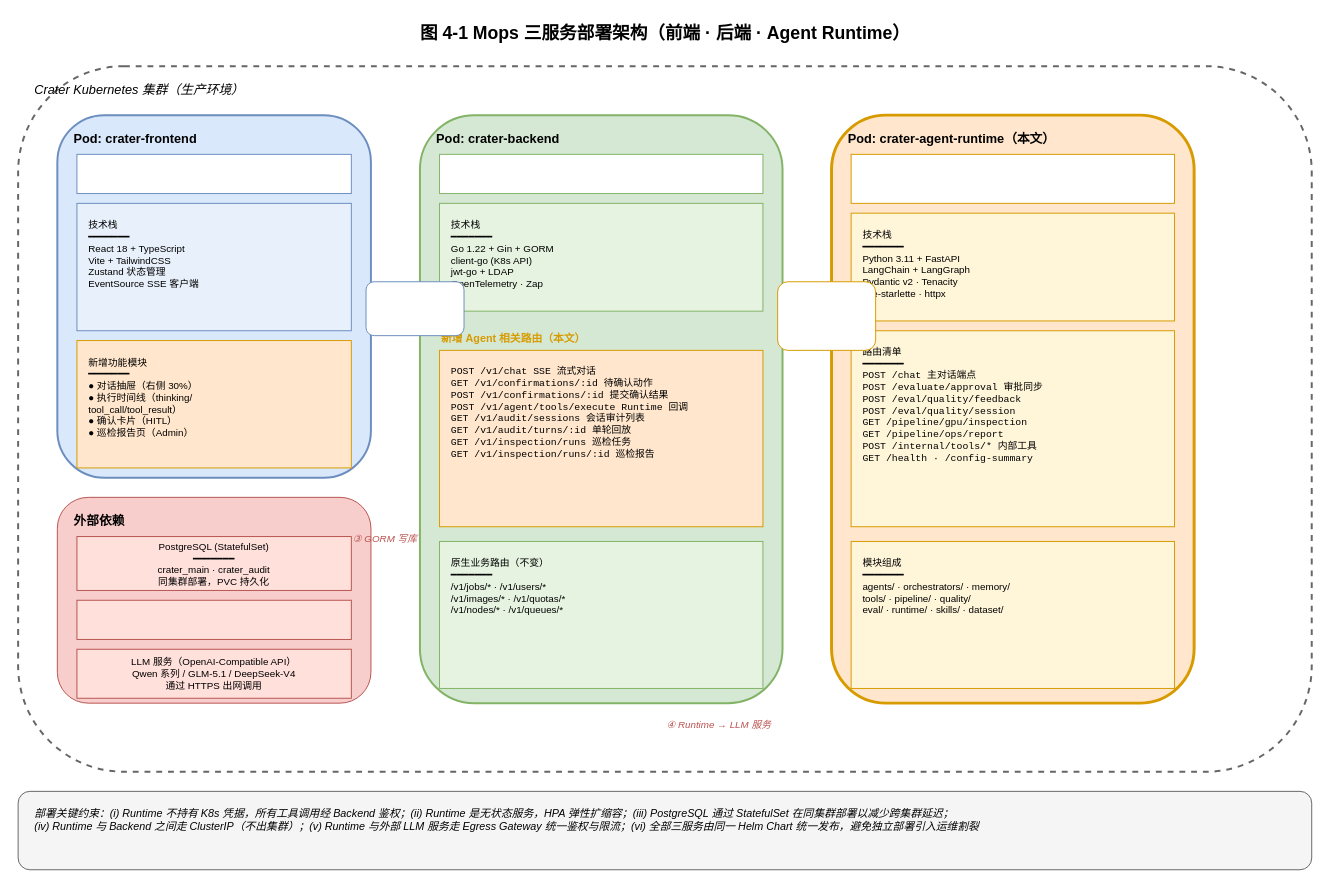
Image size: 1329x887. Some labels were removed from this diagram. The shapes that lost their labels are listed below. From the top down, each one's centre as x and y in pixels, then its label:
(213,173): 镜像：crater/frontend:v2.4.0 副本数：2 + HPA(2→5)
(601,173): 镜像：crater/backend:v1.18.0 副本数：3 + HPA(3→10)
(1012,178): 镜像：crater/agent-runtime:v0.9.0 副本数：2 + HPA(2→8) Sidecar：mock-backend (开发用)
(414,308): ① HTTPS + SSE Ingress 接入 EventSource
(826,315): ② HTTP ClusterIP /chat (SSE) /tools/execute
(213,619): Prometheus + Grafana + DCGM ━━━━━━━ 集群监控；DCGM 暴露 GPU 指标
